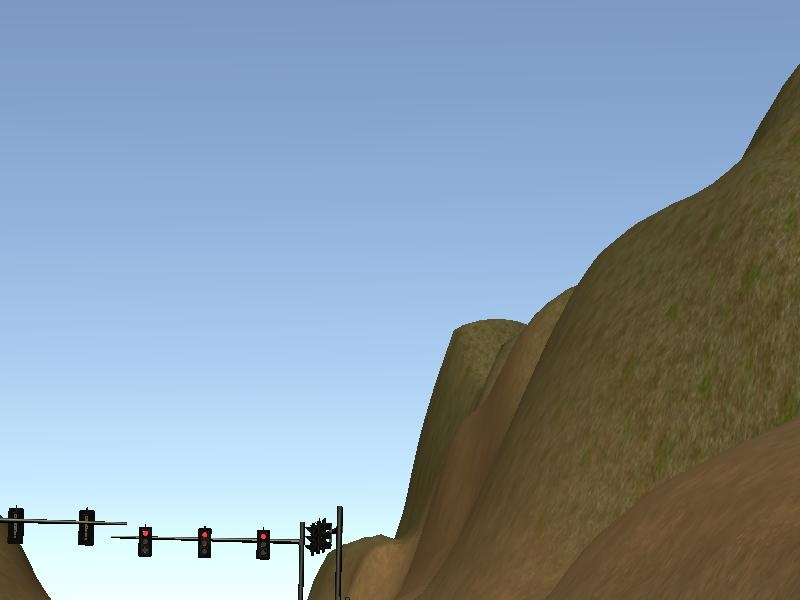red: (254, 526, 274, 564), (136, 523, 154, 561), (193, 526, 210, 565)
